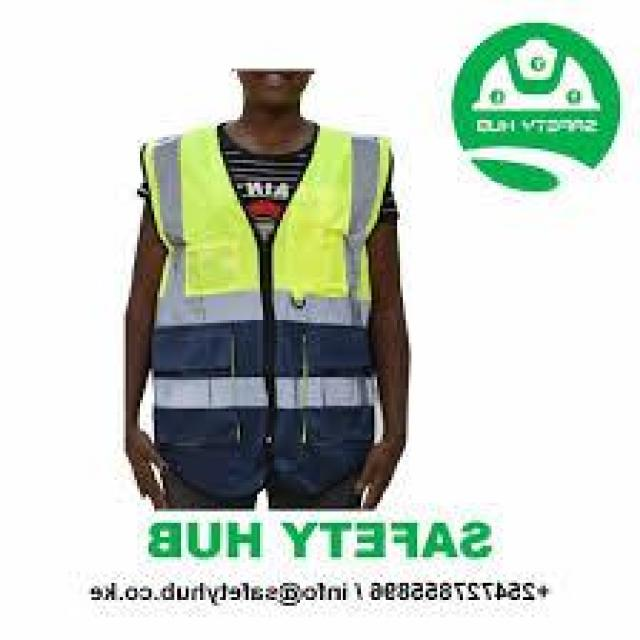Reflective-Jacket: (126, 120, 417, 420)
